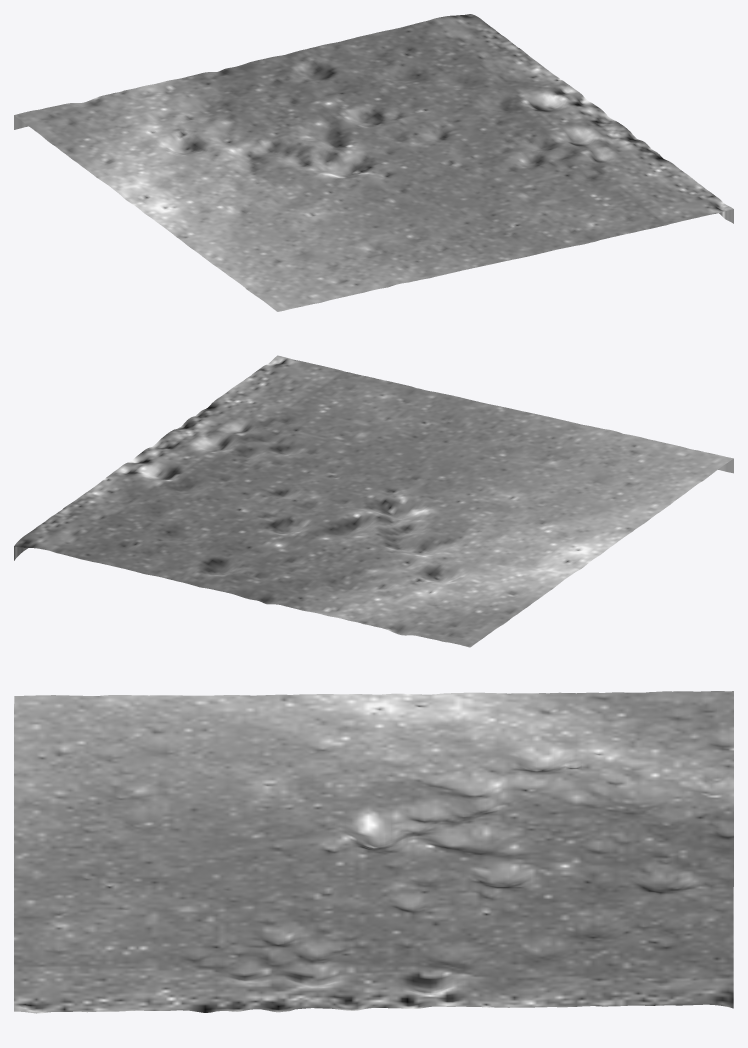
3 renders of one model, top to bottom at view 1: azimuth 30°, elevation 25°; view 2: azimuth 150°, elevation 25°; view 3: azimuth 270°, elevation 25°, orthographic. The views are drawn at different scales.
Bounding box in the file's own units: 2555 × 154 × 2557.
1 material, 1 textured.
